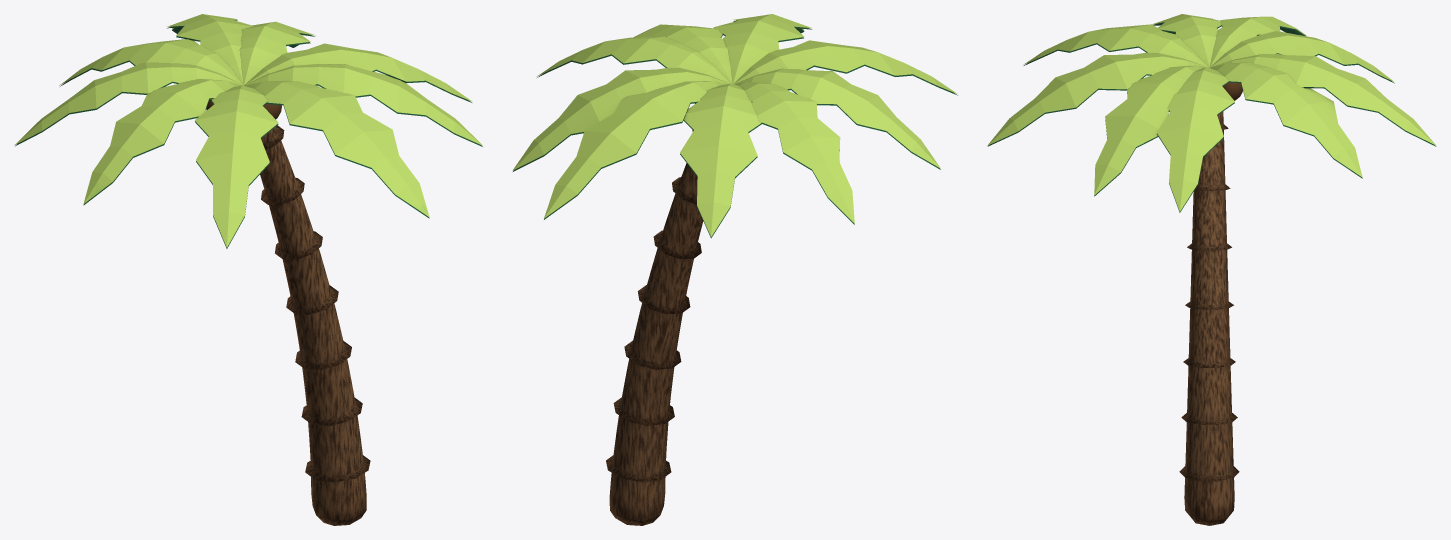
File: Env_Palm_2.glb
The picture shows the model from 3 angles, left to right: view 1: azimuth 30°, elevation 25°; view 2: azimuth 150°, elevation 25°; view 3: azimuth 270°, elevation 25°; orthographic projection. The views are drawn at different scales.
Parts seen in each view (by area): view 1: Env_Palm_2.001; view 2: Env_Palm_2.001; view 3: Env_Palm_2.001.
Boxes of the visible parts, <box> form: Env_Palm_2.001: <box>15,14,482,525</box>; Env_Palm_2.001: <box>512,14,957,525</box>; Env_Palm_2.001: <box>987,14,1436,525</box>.
Bounding box in the file's own units: 11.44 × 13.18 × 12.47.
Materials: 1 (1 with a texture image).
